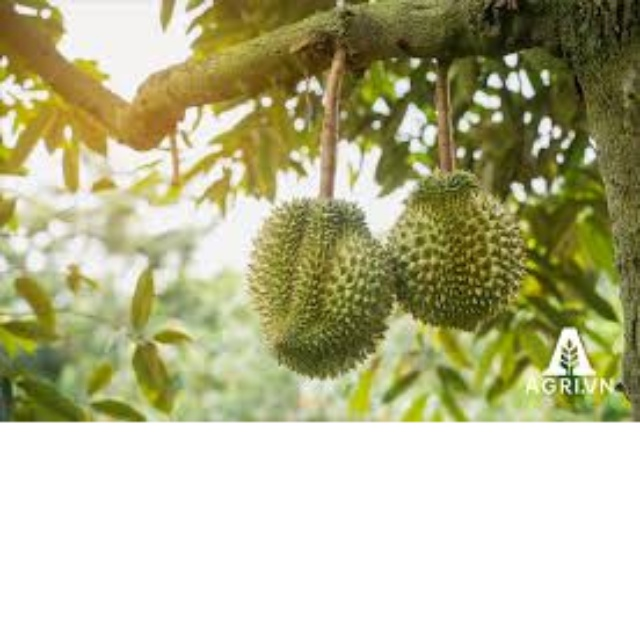sau_rieng: (249, 195, 397, 380), (386, 170, 525, 327)
